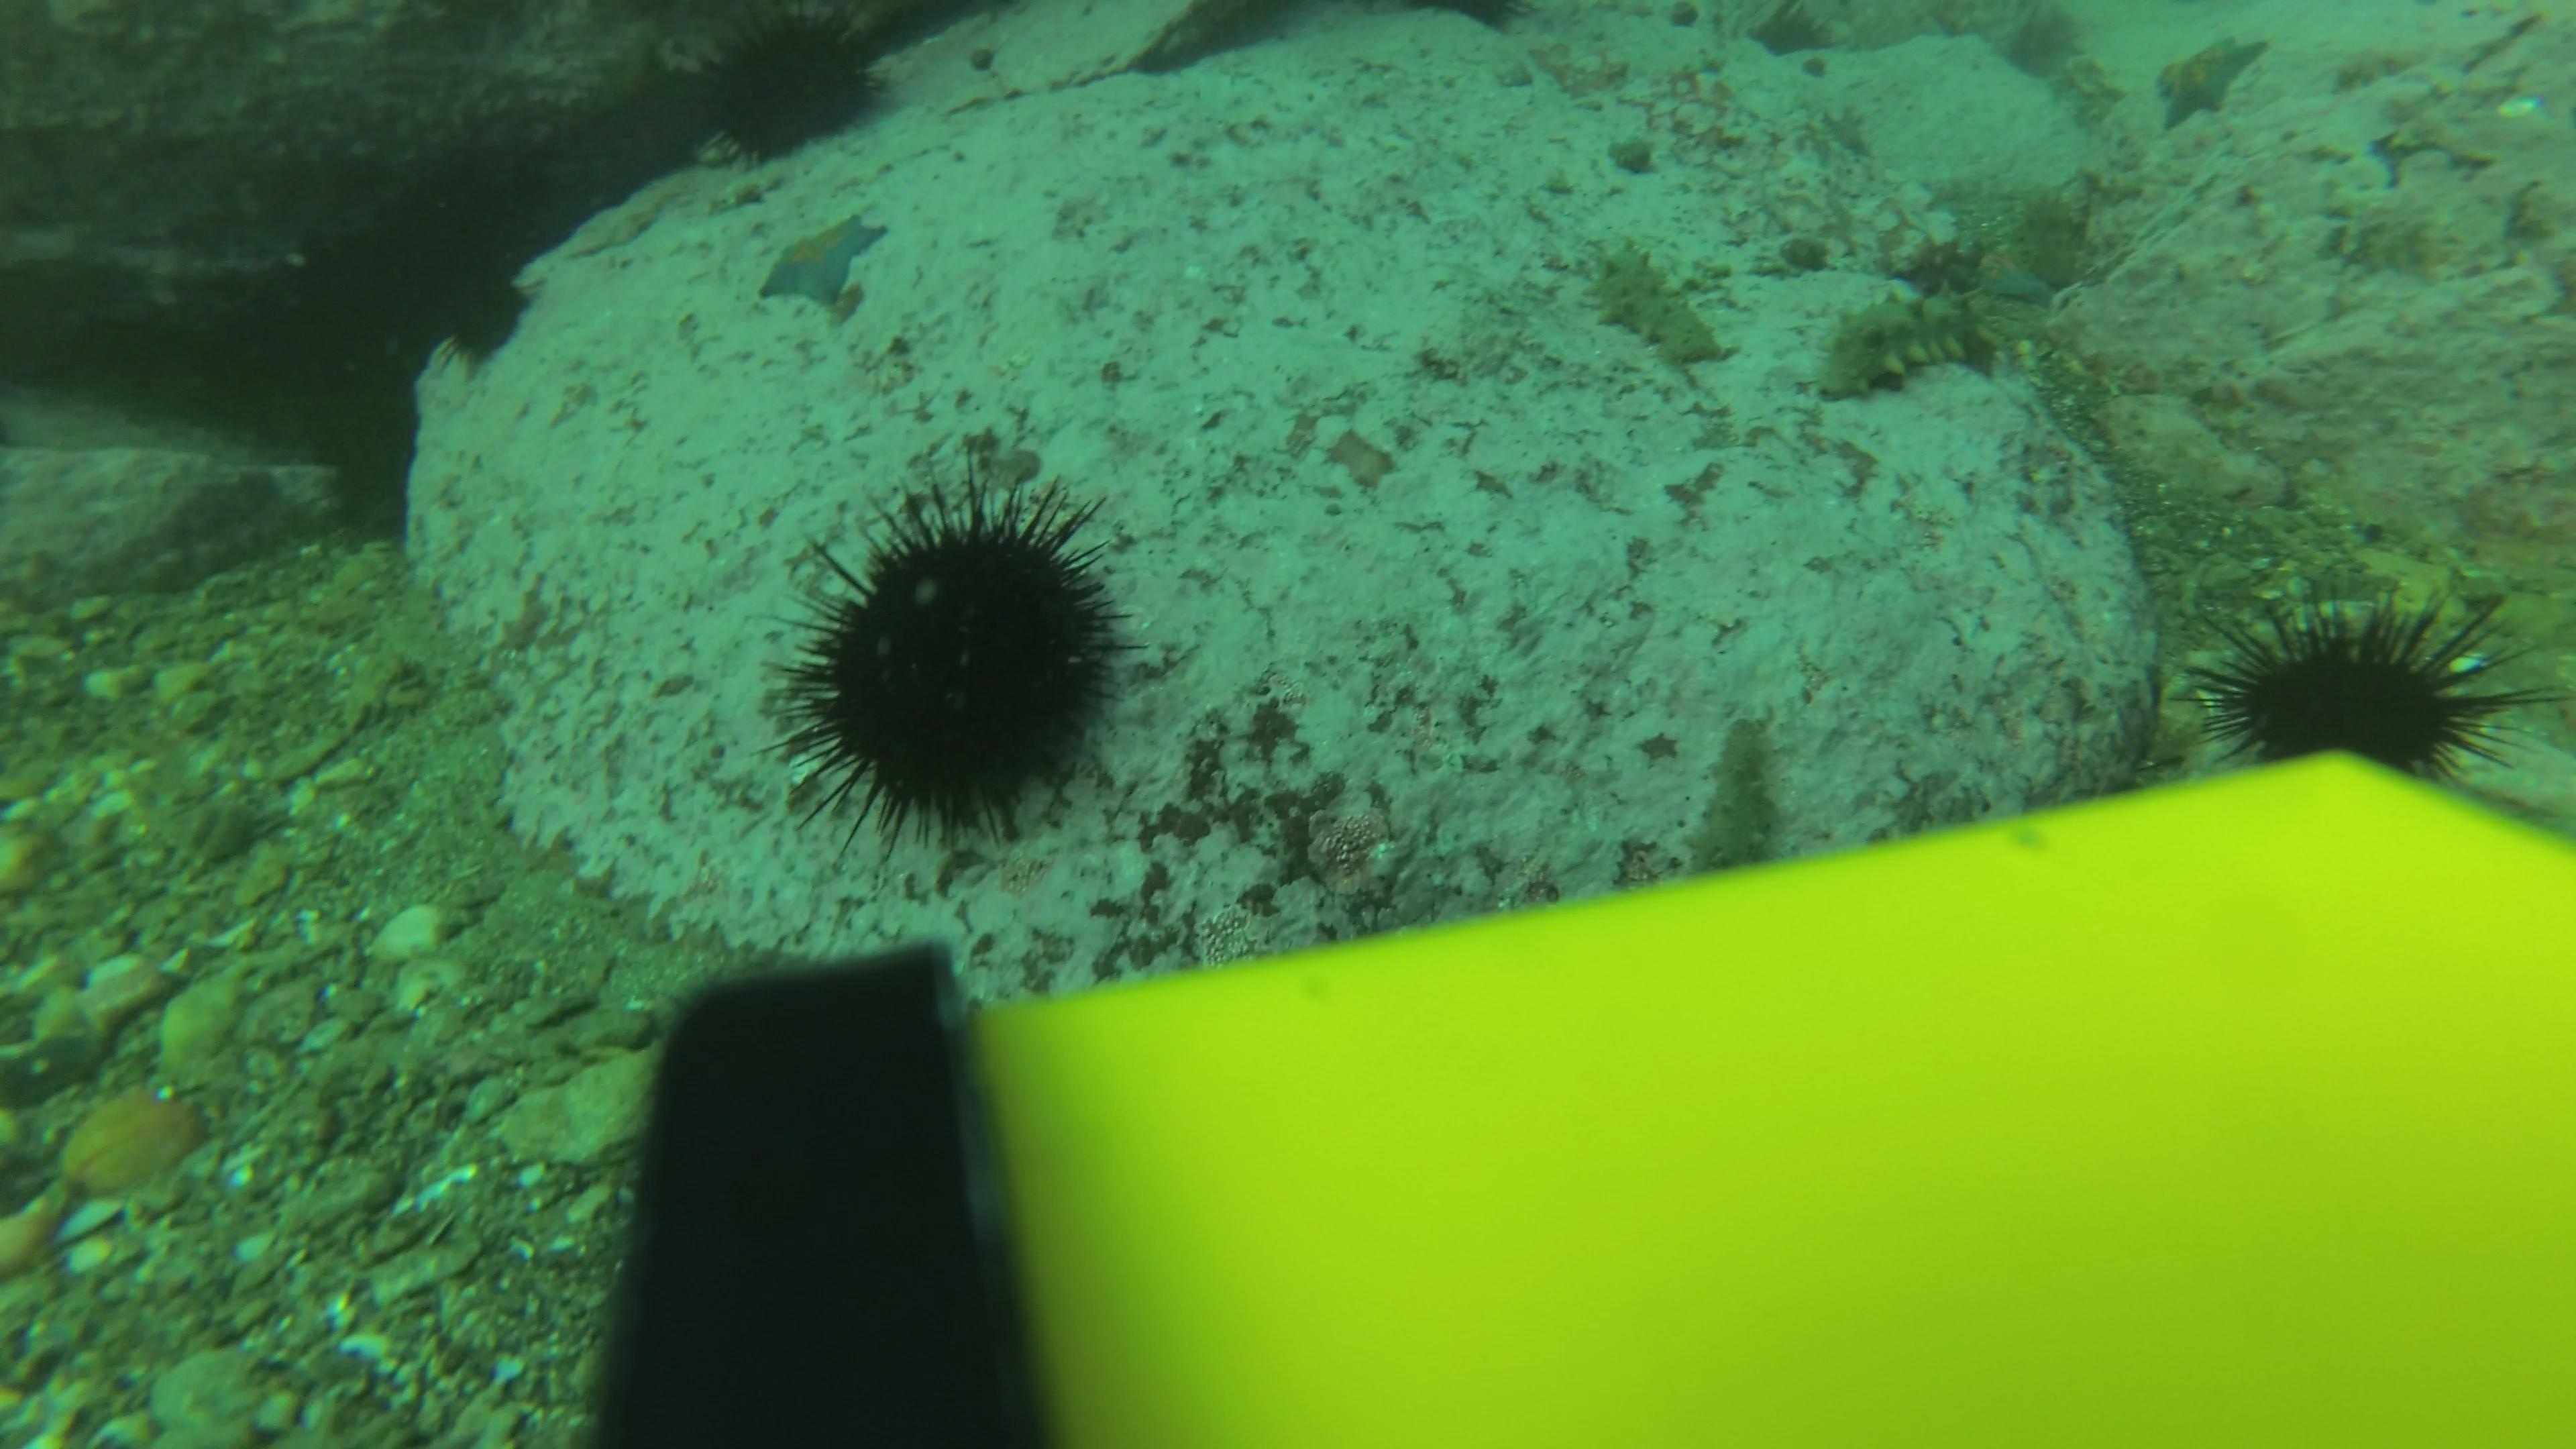echinus: (771, 474, 1138, 851), (2187, 577, 2539, 782), (690, 7, 899, 165), (425, 239, 541, 372)
holothurian: (1806, 285, 2001, 405), (1580, 234, 1736, 372), (1679, 706, 1794, 885)
starfish: (750, 205, 893, 313), (2148, 30, 2273, 133), (1966, 239, 2066, 308), (2054, 51, 2128, 117), (1808, 103, 1875, 163)
